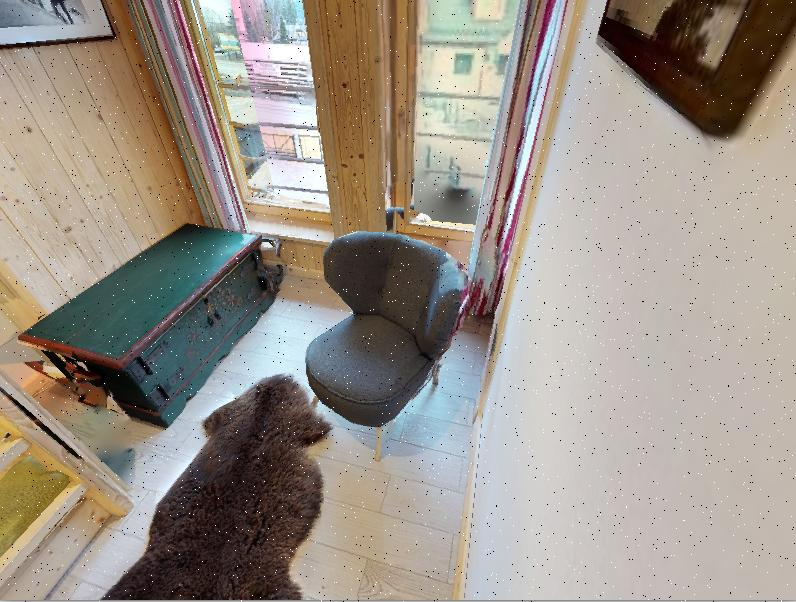sofa: (287, 222, 472, 457)
